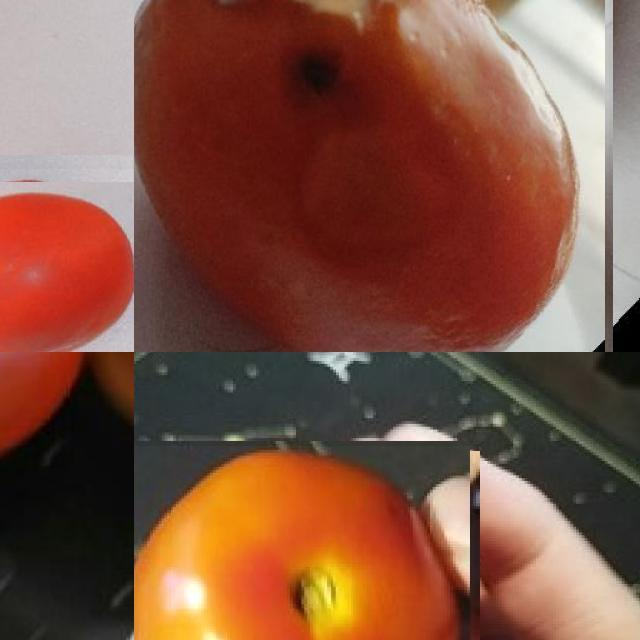Fresh Tomato: (134, 446, 475, 640), (0, 168, 134, 352), (0, 352, 96, 493)
Rotten Tomato: (134, 0, 608, 352)
